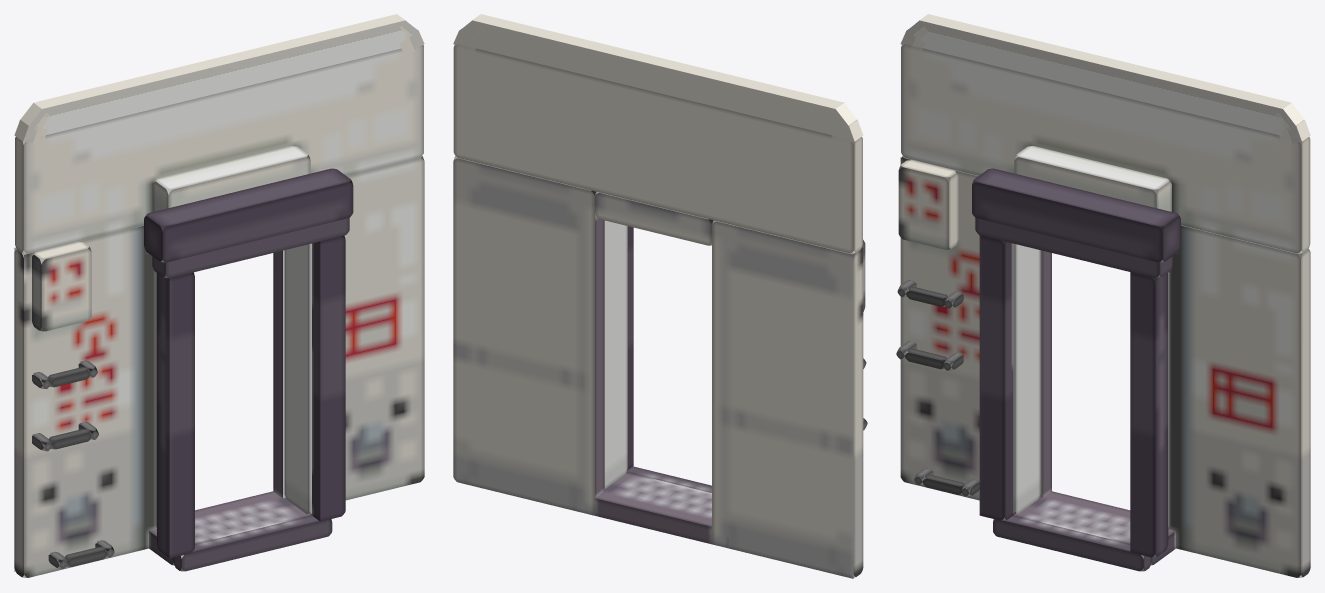
File: end_face_original_25g_2.obj
3 views of the same model, side by side, from view 1: azimuth 30°, elevation 25°; view 2: azimuth 150°, elevation 25°; view 3: azimuth 330°, elevation 25° (orthographic).
Parts seen in each view (by area): view 1: cube, cube_selection_selection; view 2: cube, cube_selection_selection; view 3: cube, cube_selection_selection.
Part boxes in pixels (x1,y1,x2,y2): cube: (14, 45, 424, 577); cube_selection_selection: (14, 14, 424, 145); cube: (453, 39, 867, 578); cube_selection_selection: (453, 14, 863, 145); cube: (896, 44, 1310, 577); cube_selection_selection: (900, 14, 1310, 145).
Bounding box in the file's own units: 3 × 3.32 × 0.5594.
